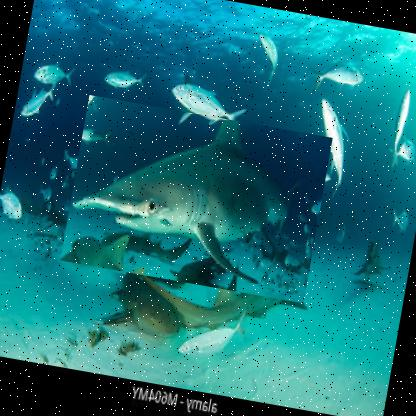hammerhead_Shark: (58, 95, 332, 304)
